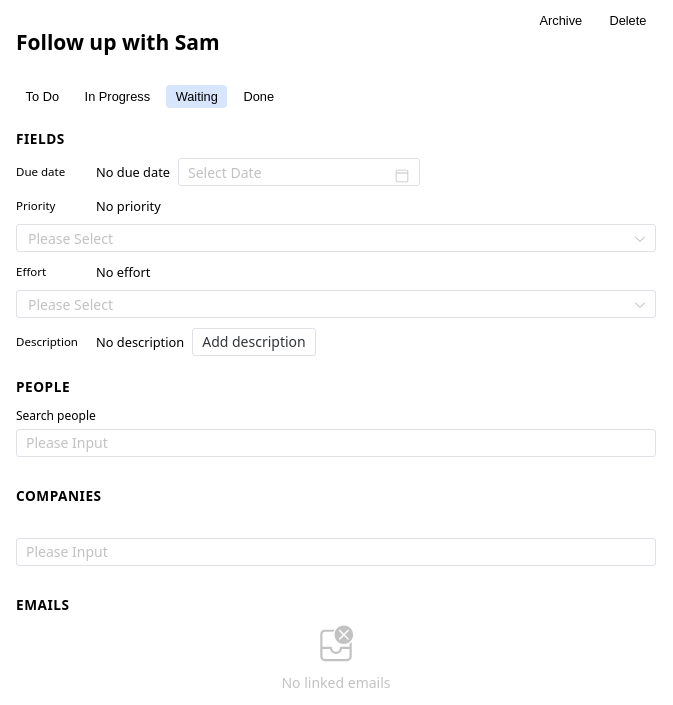
Test: TaskDetailPage › clicking a non-current pill moves the task to the bottom of that lane and updates the pill row on success (FR-003, FR-005)
Click the button "In Progress": coordinates (117, 97) [75,85,160,108]
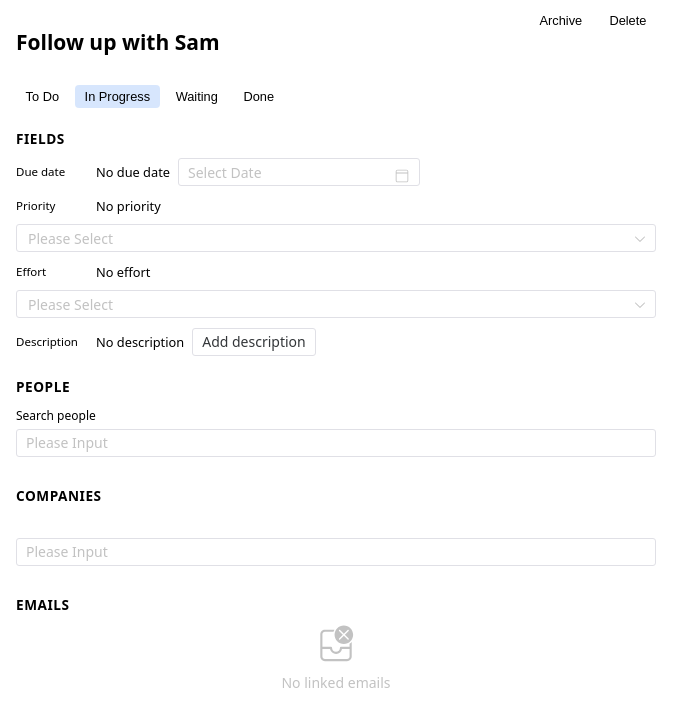
expect the button "In Progress" is disabled: met, box [75,85,160,108]
expect the button "Waiting" is enabled: met, box [166,85,227,108]
